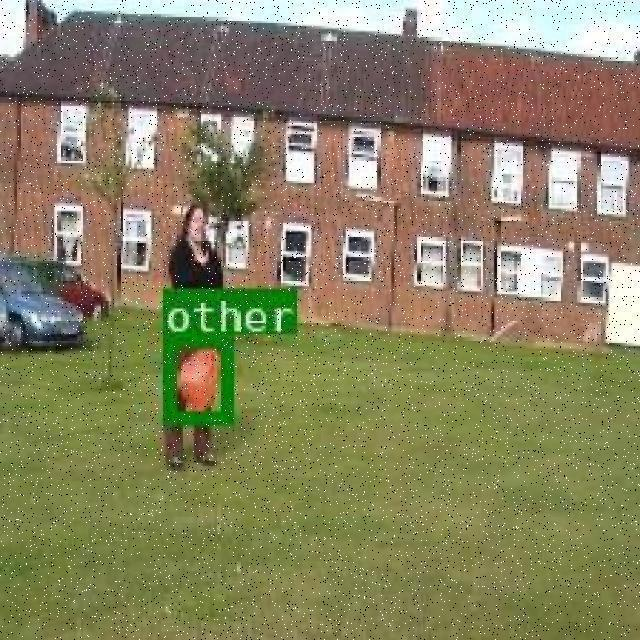Smoke: (160, 332, 229, 421)
